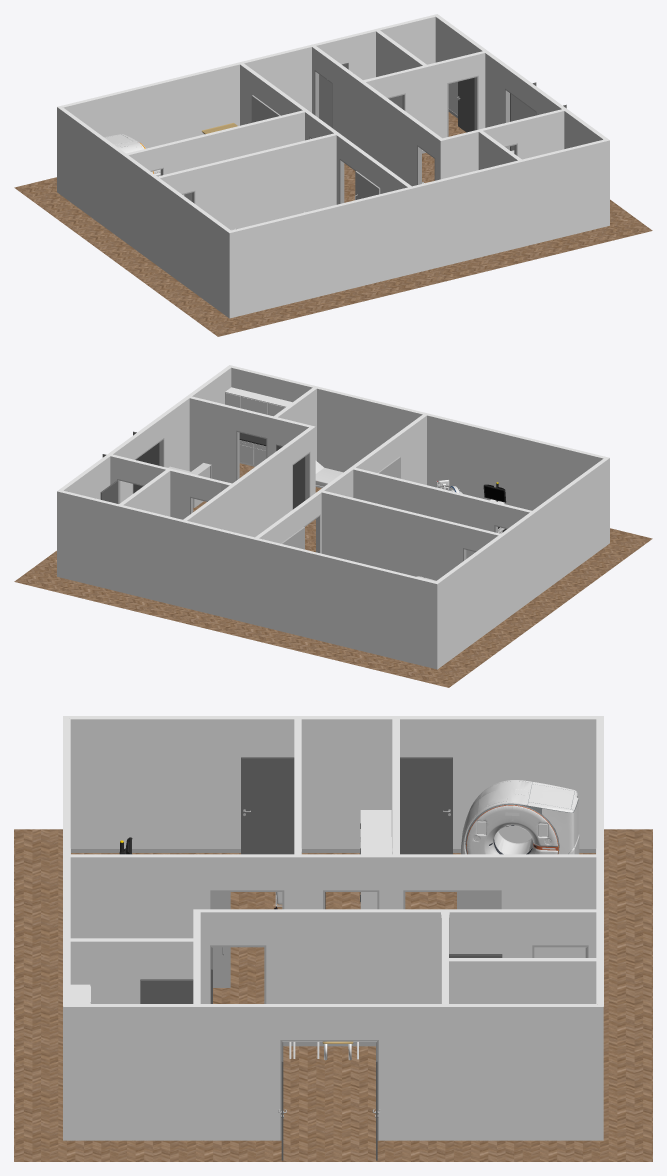
Rendered from robocup_hcc_arena.glb.
The picture shows the model from 3 angles, top to bottom: view 1: azimuth 30°, elevation 25°; view 2: azimuth 150°, elevation 25°; view 3: azimuth 270°, elevation 25°; orthographic projection. The views are drawn at different scales.
Parts seen in each view (by area): view 1: Walls, Floor, WallsTop, Frames, Door_06, Door_08, SlidingDoor_01, Door_05; view 2: Walls, Floor, WallsTop, Frames, Hanging, Lower, Door_02; view 3: Walls, Floor, WallsTop, NAEOTOM_Alpha_Model, Door_10, Door_09, Frames, Door_03, SlidingDoor_01, dots_map, Cabinet, Cabinet_2 (+1 smaller).
Boxes of the visible parts, x1,y1,x2,y2 form: Walls: [57, 16, 609, 318]; Floor: [14, 112, 652, 336]; WallsTop: [57, 14, 609, 233]; Frames: [150, 70, 536, 203]; Door_06: [457, 77, 474, 132]; Door_08: [319, 63, 348, 127]; SlidingDoor_01: [355, 171, 380, 200]; Door_05: [510, 82, 536, 150]; Walls: [57, 367, 609, 669]; Floor: [14, 463, 652, 687]; WallsTop: [57, 365, 609, 584]; Frames: [117, 430, 507, 561]; Hanging: [225, 387, 292, 416]; Lower: [239, 432, 266, 466]; Door_02: [276, 444, 305, 509]; Walls: [63, 719, 603, 1140]; Floor: [14, 829, 652, 1161]; WallsTop: [63, 716, 603, 1006]; NAEOTOM_Alpha_Model: [460, 780, 579, 854]; Door_10: [241, 757, 294, 854]; Door_09: [400, 757, 452, 854]; Frames: [210, 890, 588, 1140]; Door_03: [140, 979, 193, 1003]; SlidingDoor_01: [212, 892, 230, 987]; dots_map: [542, 800, 578, 854]; Cabinet: [360, 837, 391, 909]; Cabinet_2: [360, 810, 391, 896].
Bounding box in the file's own units: 16 × 3.01 × 13.
Materials: 89 (1 with a texture image).
